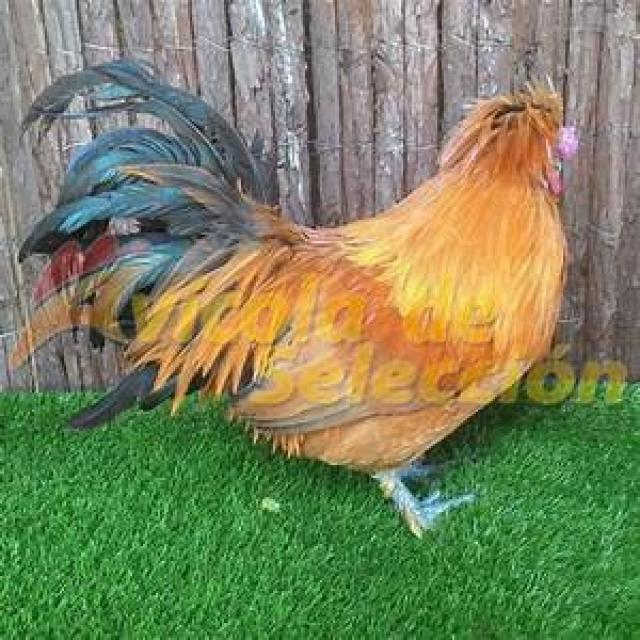hen: (23, 64, 570, 499)
